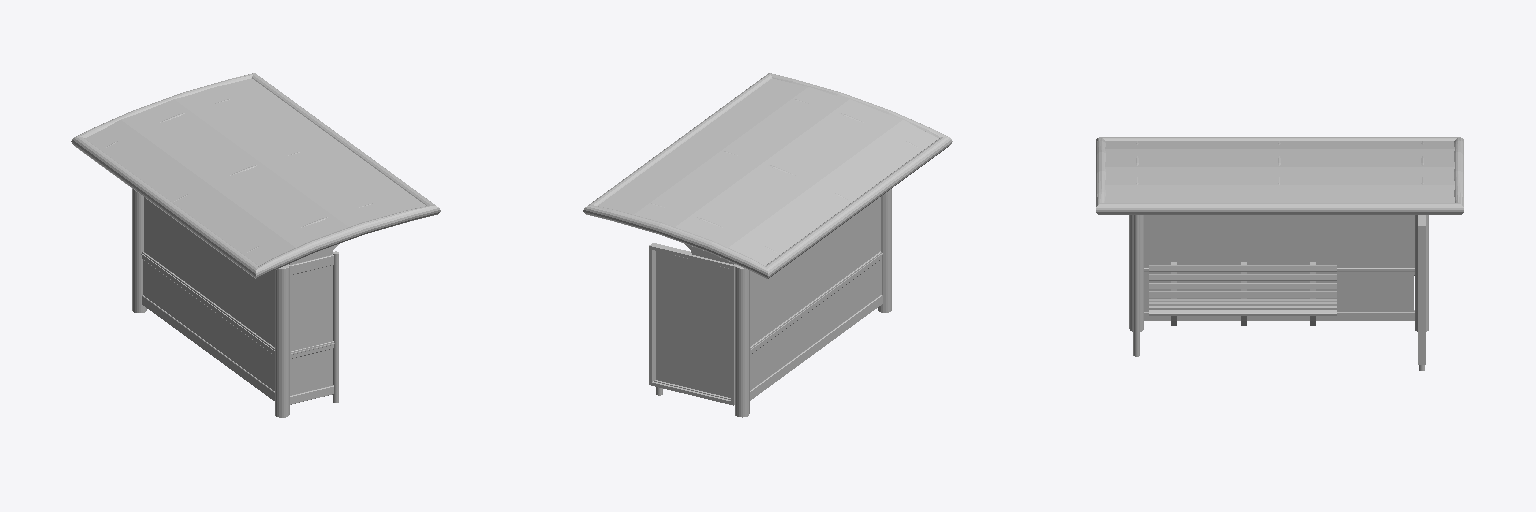
Rendered from BusStop_LOD0.obj.
3 renders of one model, left to right at view 1: azimuth 30°, elevation 25°; view 2: azimuth 150°, elevation 25°; view 3: azimuth 270°, elevation 25°, orthographic.
Parts seen in each view (by area): view 1: BusStop_LOD0 BusStop; view 2: BusStop_LOD0 BusStop; view 3: BusStop_LOD0 BusStop.
Part boxes in pixels (x1,y1,x2,y2): BusStop_LOD0 BusStop: (71,73,440,417); BusStop_LOD0 BusStop: (583,73,952,417); BusStop_LOD0 BusStop: (1096,137,1463,370).
Size of the model in its own units: 300 by 295 by 517.